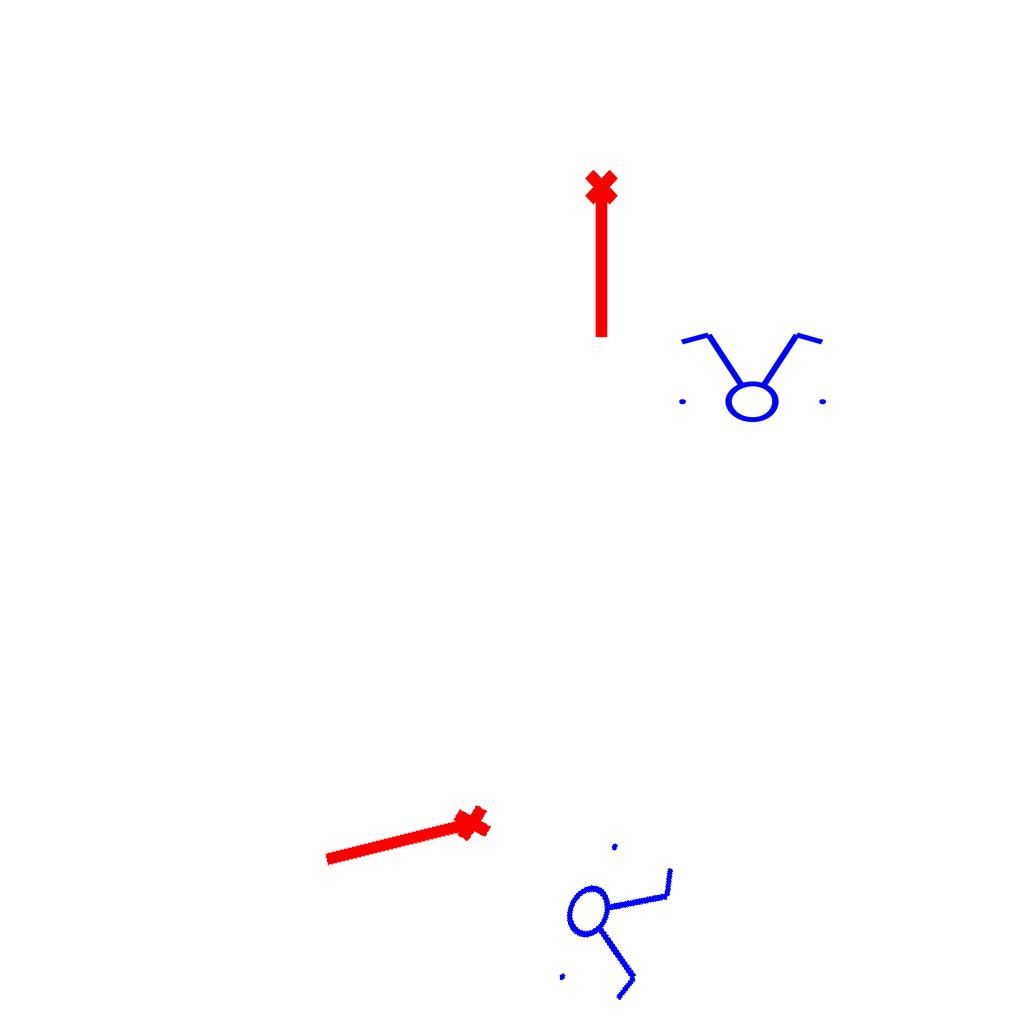ASR_Ansaugoeffnung: (316, 798, 498, 886), (581, 167, 627, 343)
Serienschalter: (537, 824, 689, 1016), (667, 328, 835, 424)
